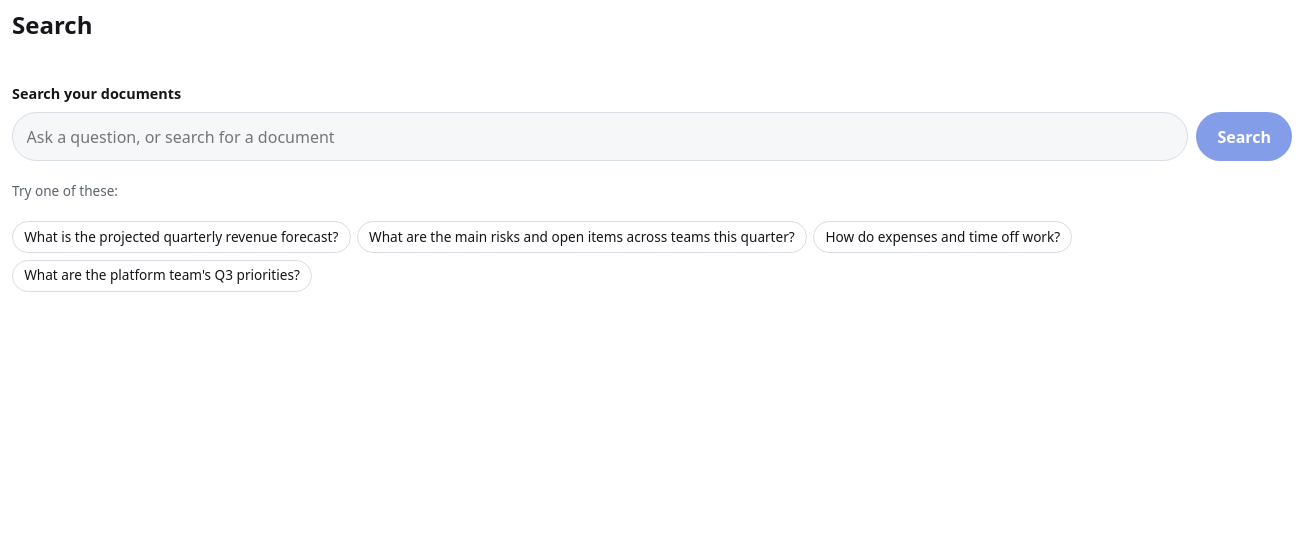
Scenario: CombinedSearchPage › collapsing a half › keeps the answer available after collapsing and expanding
The image size is (1304, 556).
Type "revenue" into the search field labelled "Search your documents". click: x=600, y=137
box: [12,112,1188,161]
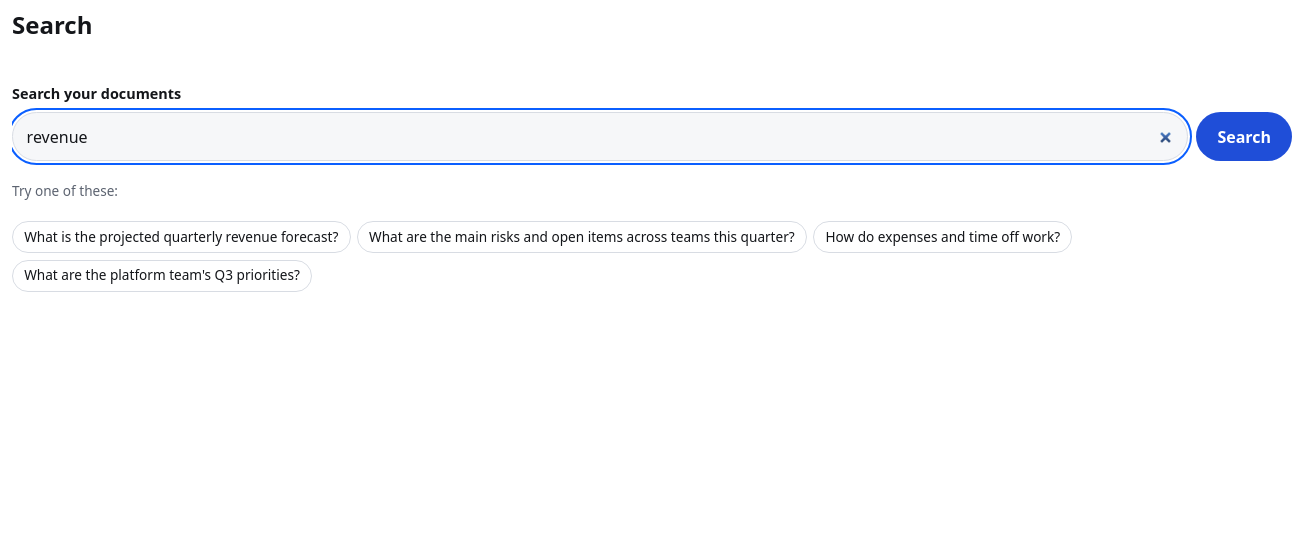
Click the button "Search". click: x=1244, y=137
box: [1196,112,1292,161]
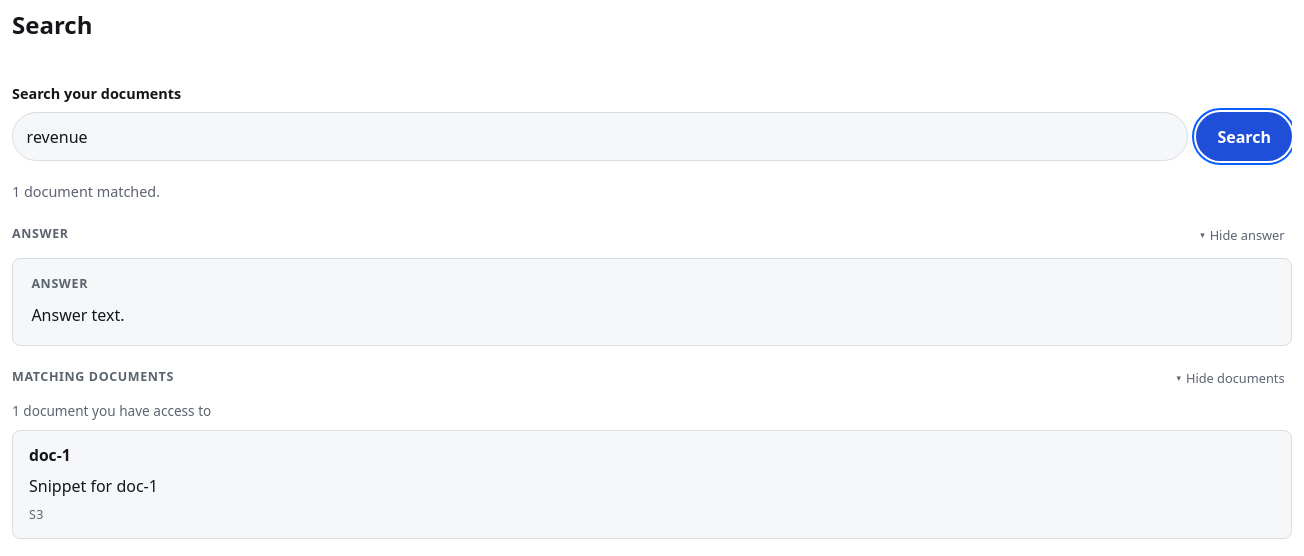
Now the text "Answer text." is shown, box [31,304,125,326]
Click the button "▾ Hide answer". click: x=1242, y=235
box: [1193,222,1292,248]
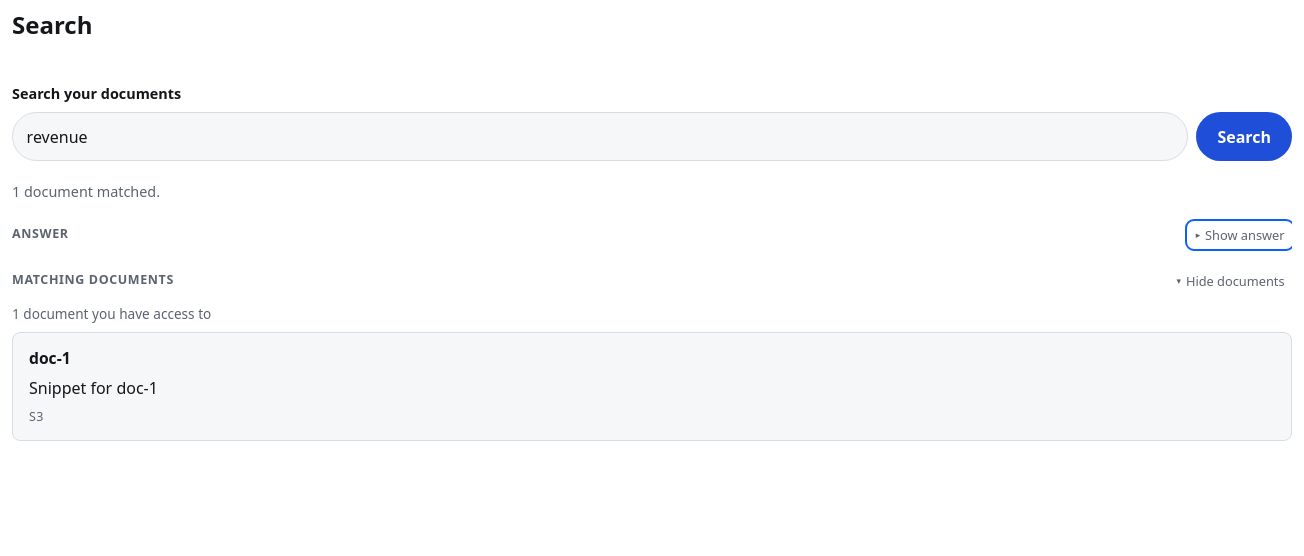
Now the text "Answer text." is gone
Click the button "▸ Show answer". click: x=1240, y=235
box: [1188,222,1292,248]
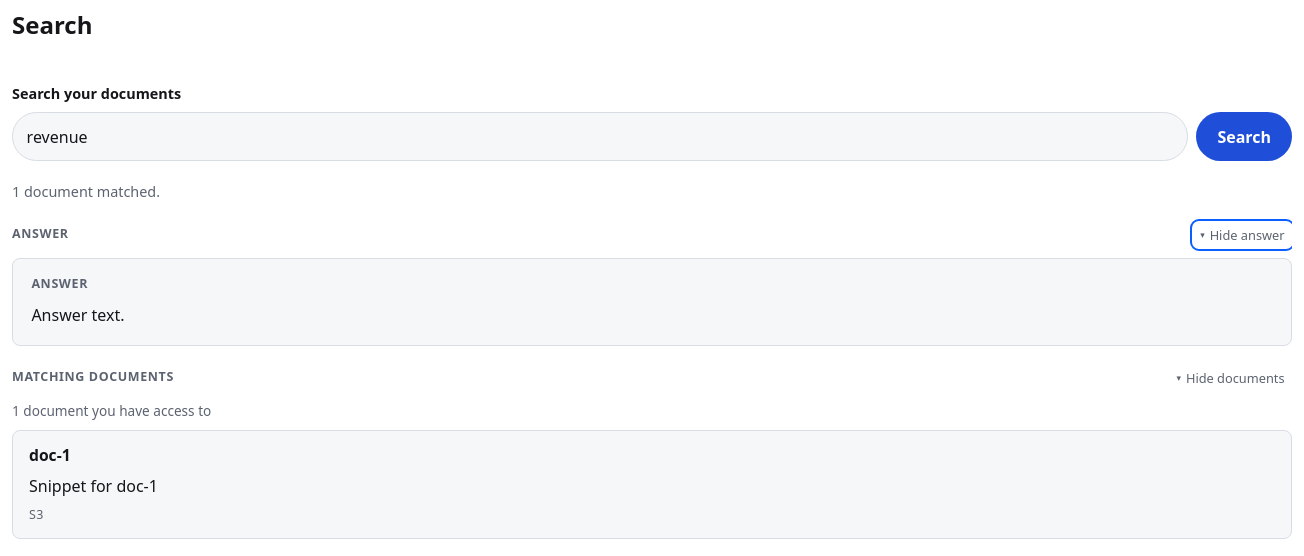
Now the text "Answer text." is shown, box [31,304,125,326]
